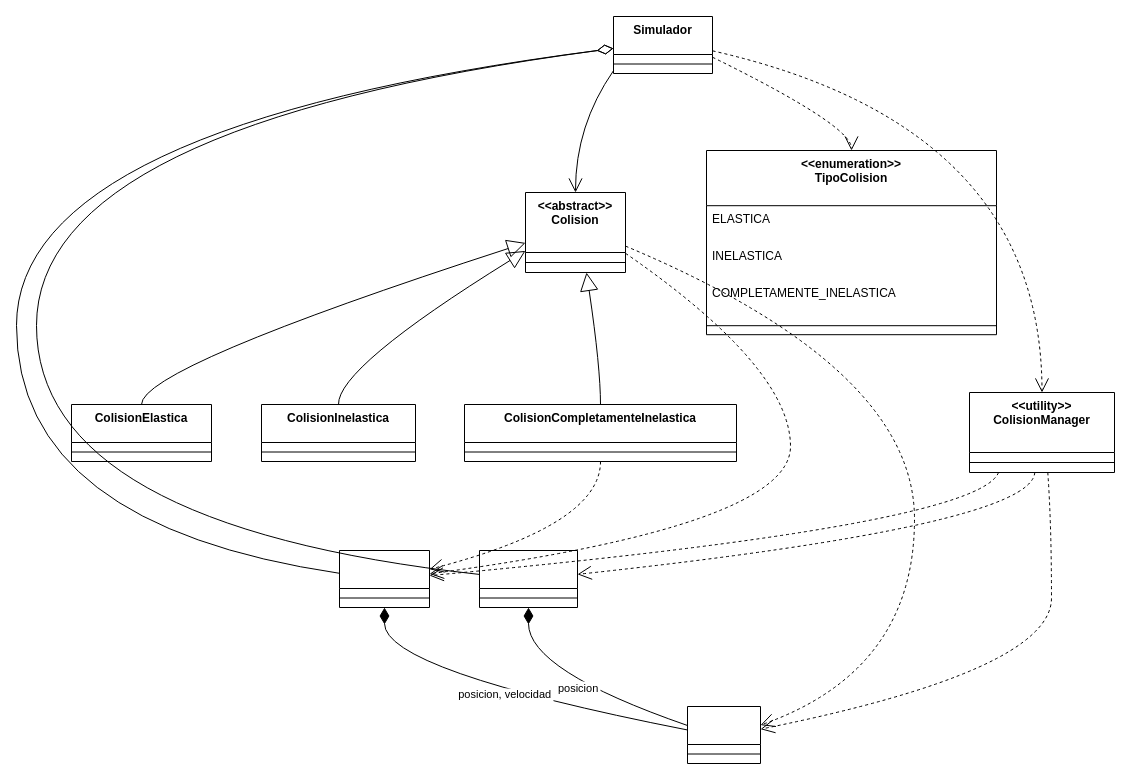
The diagram is 1131 pixels wide and 780 high, and some of its shapes have lost their labels. The centre of each missing label's shape, as x and y in pixels:
"Obstaculo" belongs at point (528, 579).
"Particula" belongs at point (384, 579).
"Vector" belongs at point (723, 735).
